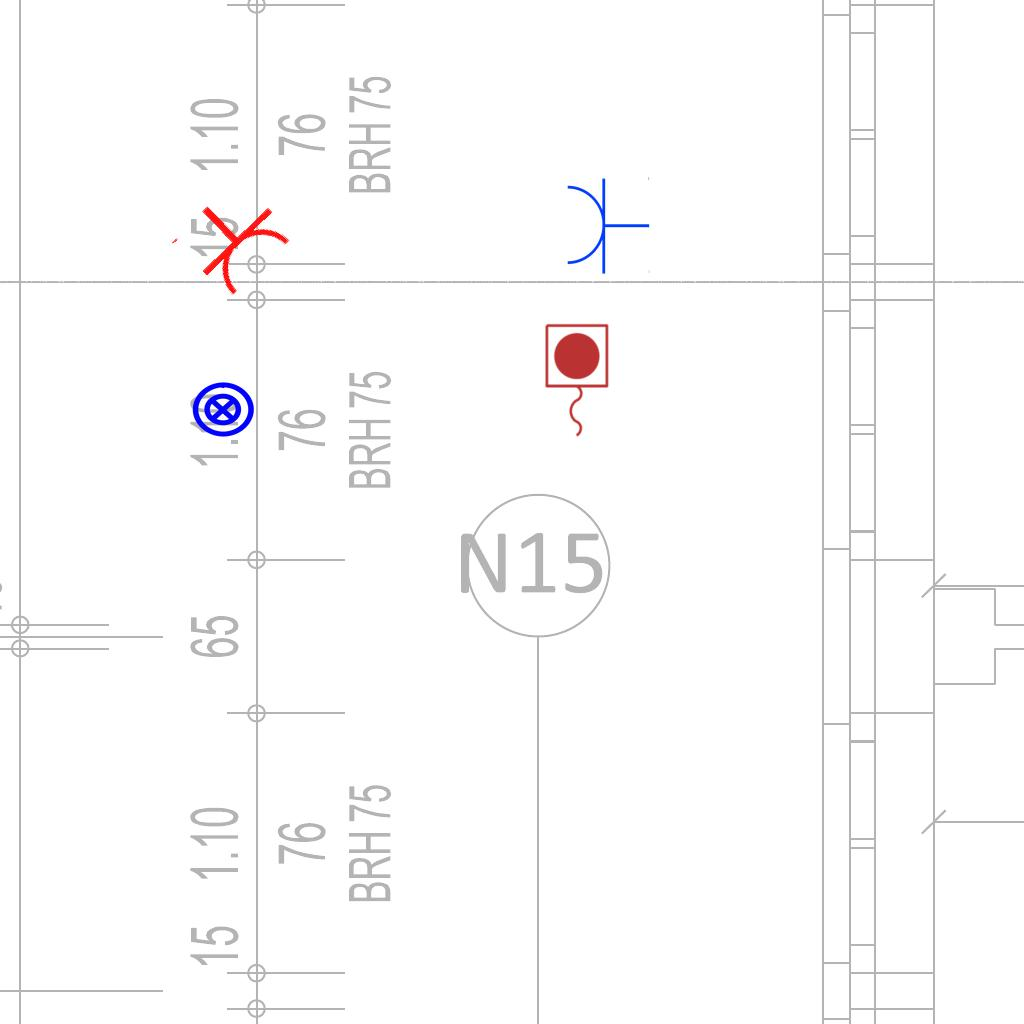Schukosteckdose_einfach: (166, 173, 299, 307), (563, 175, 650, 275)
Taster_beleuchtet: (190, 377, 256, 443)
Zugtaster: (540, 320, 612, 442)
